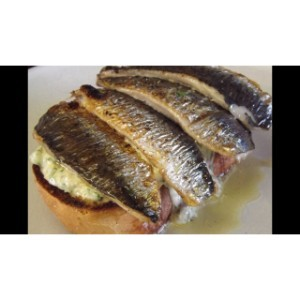sardine_brain food: (49, 73, 254, 213)
